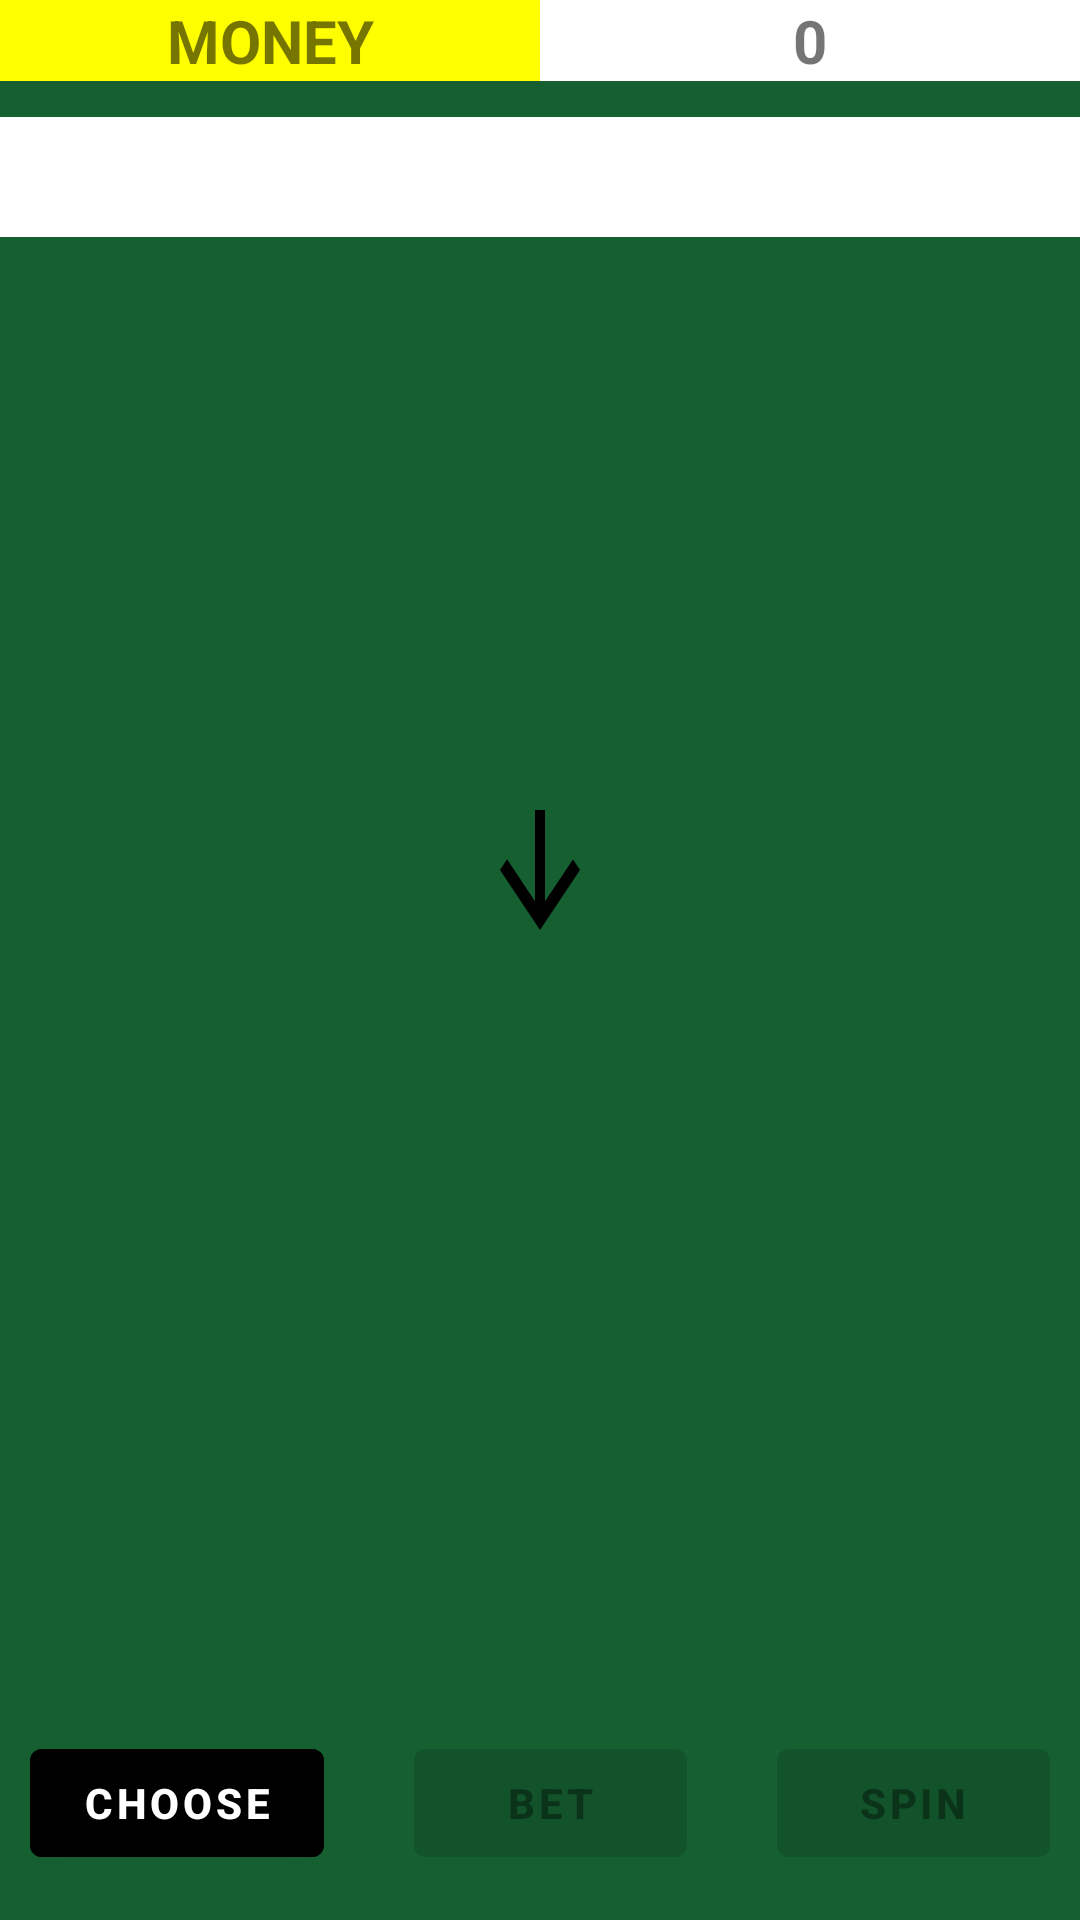

Icon click points for this 1080w x 1920h phone screenshot, format point (x, y):
arrow downward: point (540, 870)
